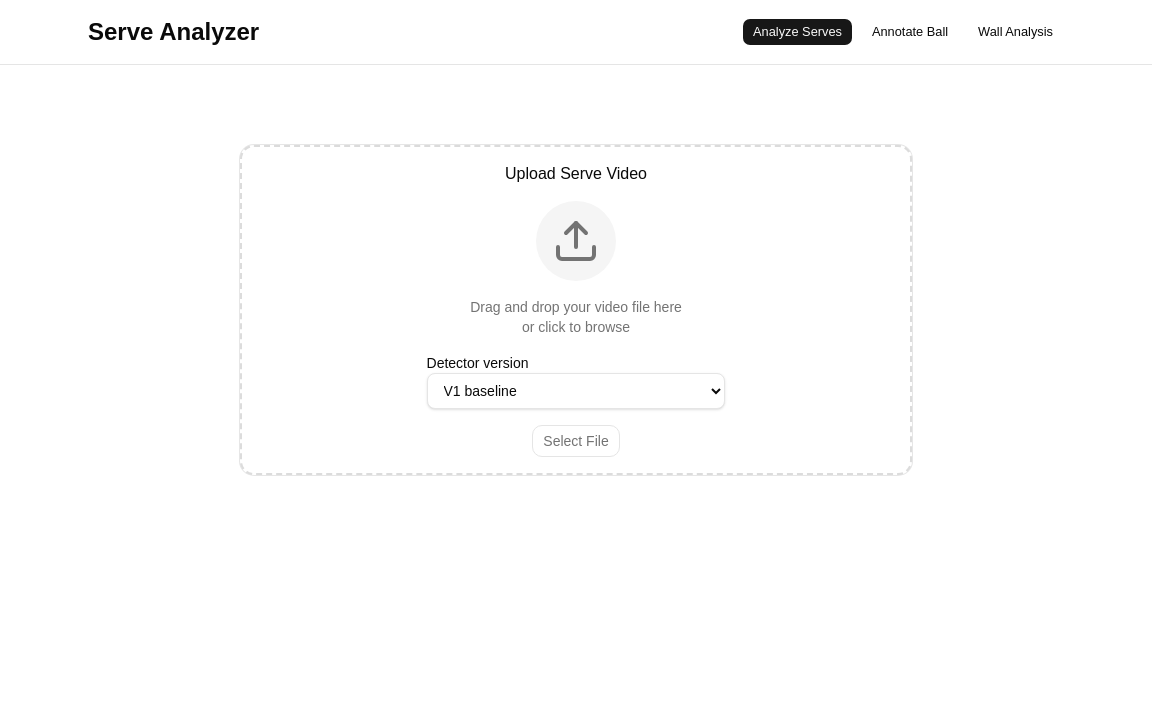
Test: App › switches to wall analysis and renders the workflow stepper
Click the button "Wall Analysis".
click(1016, 32)  # box left=967, top=18, right=1064, bottom=46
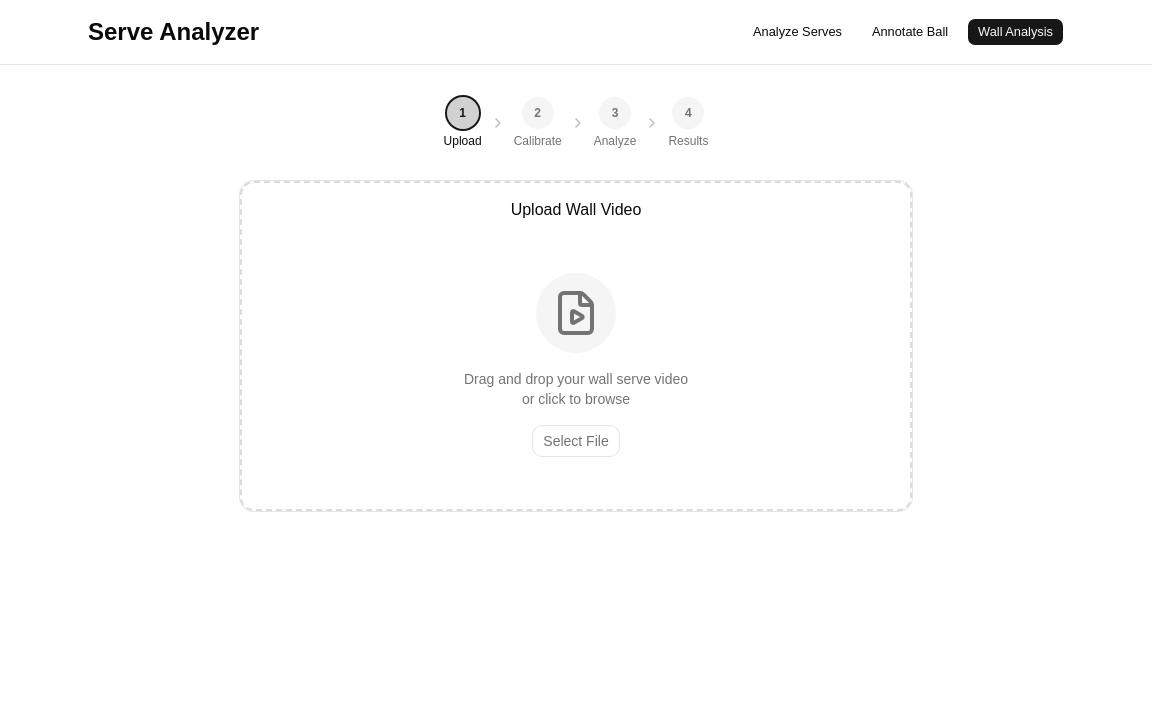
Check: the text "Upload Wall Video" is shown, box left=511, top=201, right=641, bottom=218
Check: the text "Upload" is shown, box left=444, top=133, right=482, bottom=149
Check: the text "Calibrate" is shown, box left=514, top=133, right=562, bottom=149
